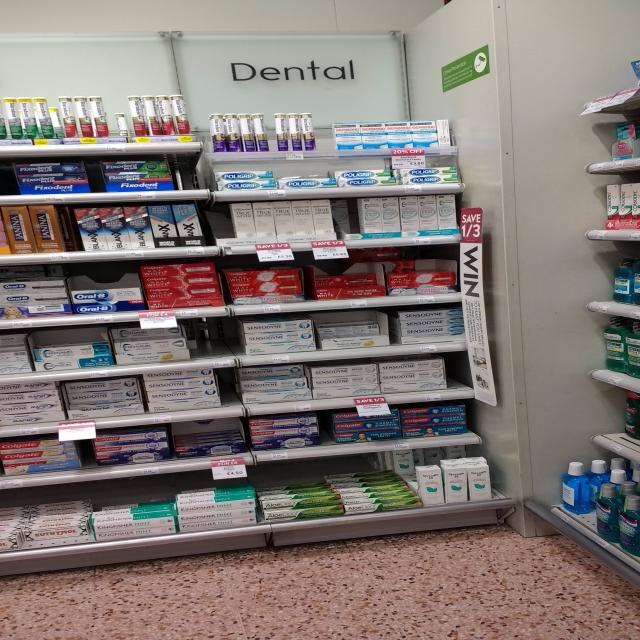void: (195, 319, 234, 370), (0, 332, 31, 383)
